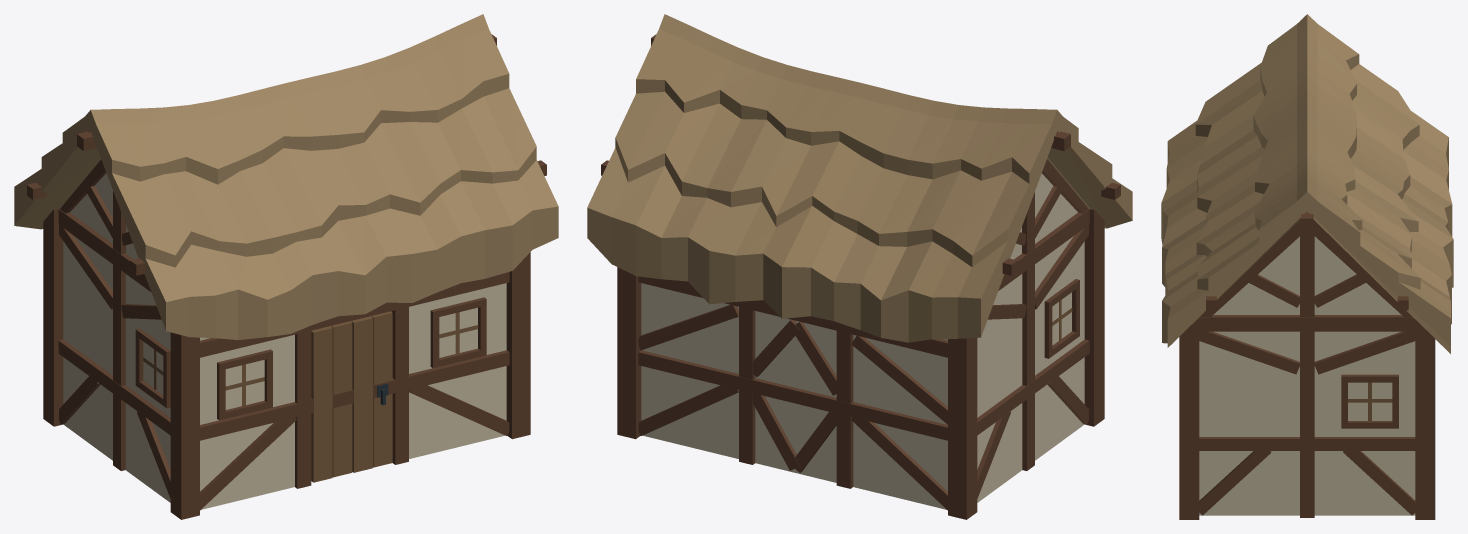
The model's file is thatched-cottage-0e63f5.glb.
The picture shows the model from 3 angles, left to right: view 1: azimuth 30°, elevation 25°; view 2: azimuth 150°, elevation 25°; view 3: azimuth 270°, elevation 25°; orthographic projection. The views are drawn at different scales.
Parts seen in each view (by area): view 1: cottage-shell; view 2: cottage-shell; view 3: cottage-shell.
Boxes of the visible parts, bbox=[...] form: cottage-shell: bbox=[14, 14, 558, 519]; cottage-shell: bbox=[587, 14, 1132, 519]; cottage-shell: bbox=[1161, 14, 1453, 519].
Size of the model in its own units: 6 by 5.06 by 3.97.
